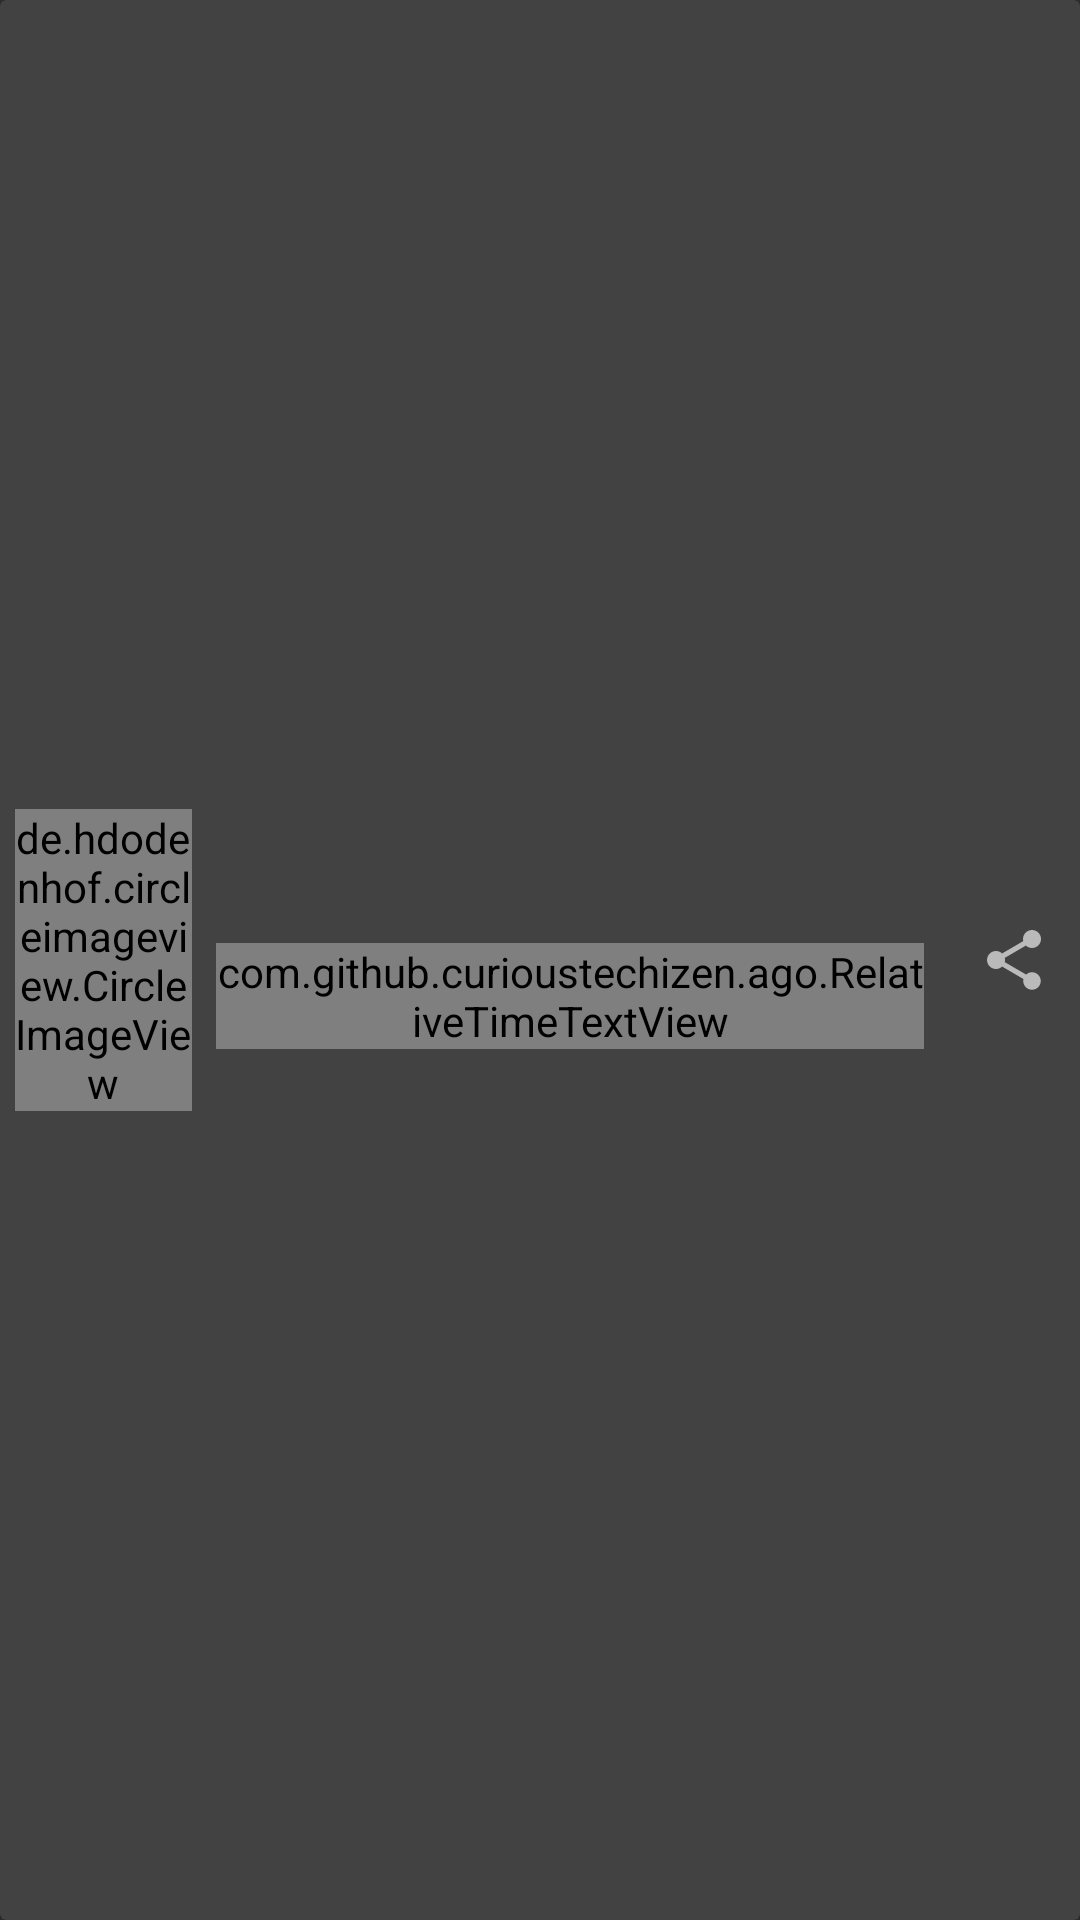

Icons on this 1080px×1920px Android screen, each with its box as (x1, y1, x2, y2):
share: (987, 930, 1041, 990)
